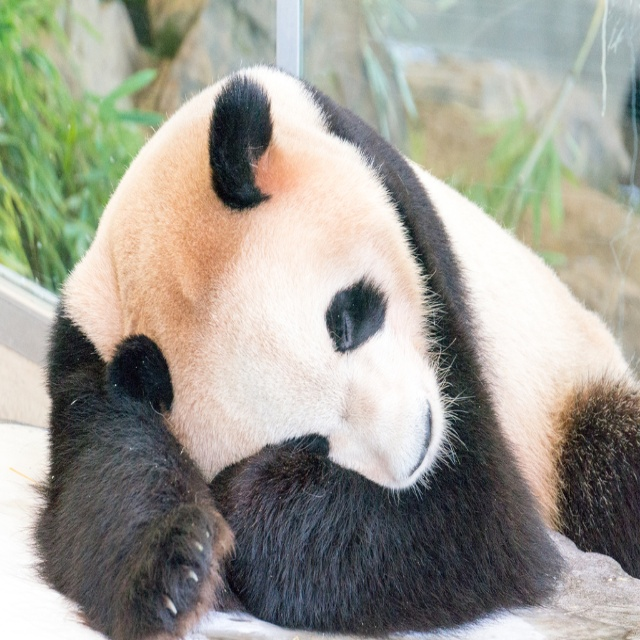Panda: (26, 55, 640, 639)
